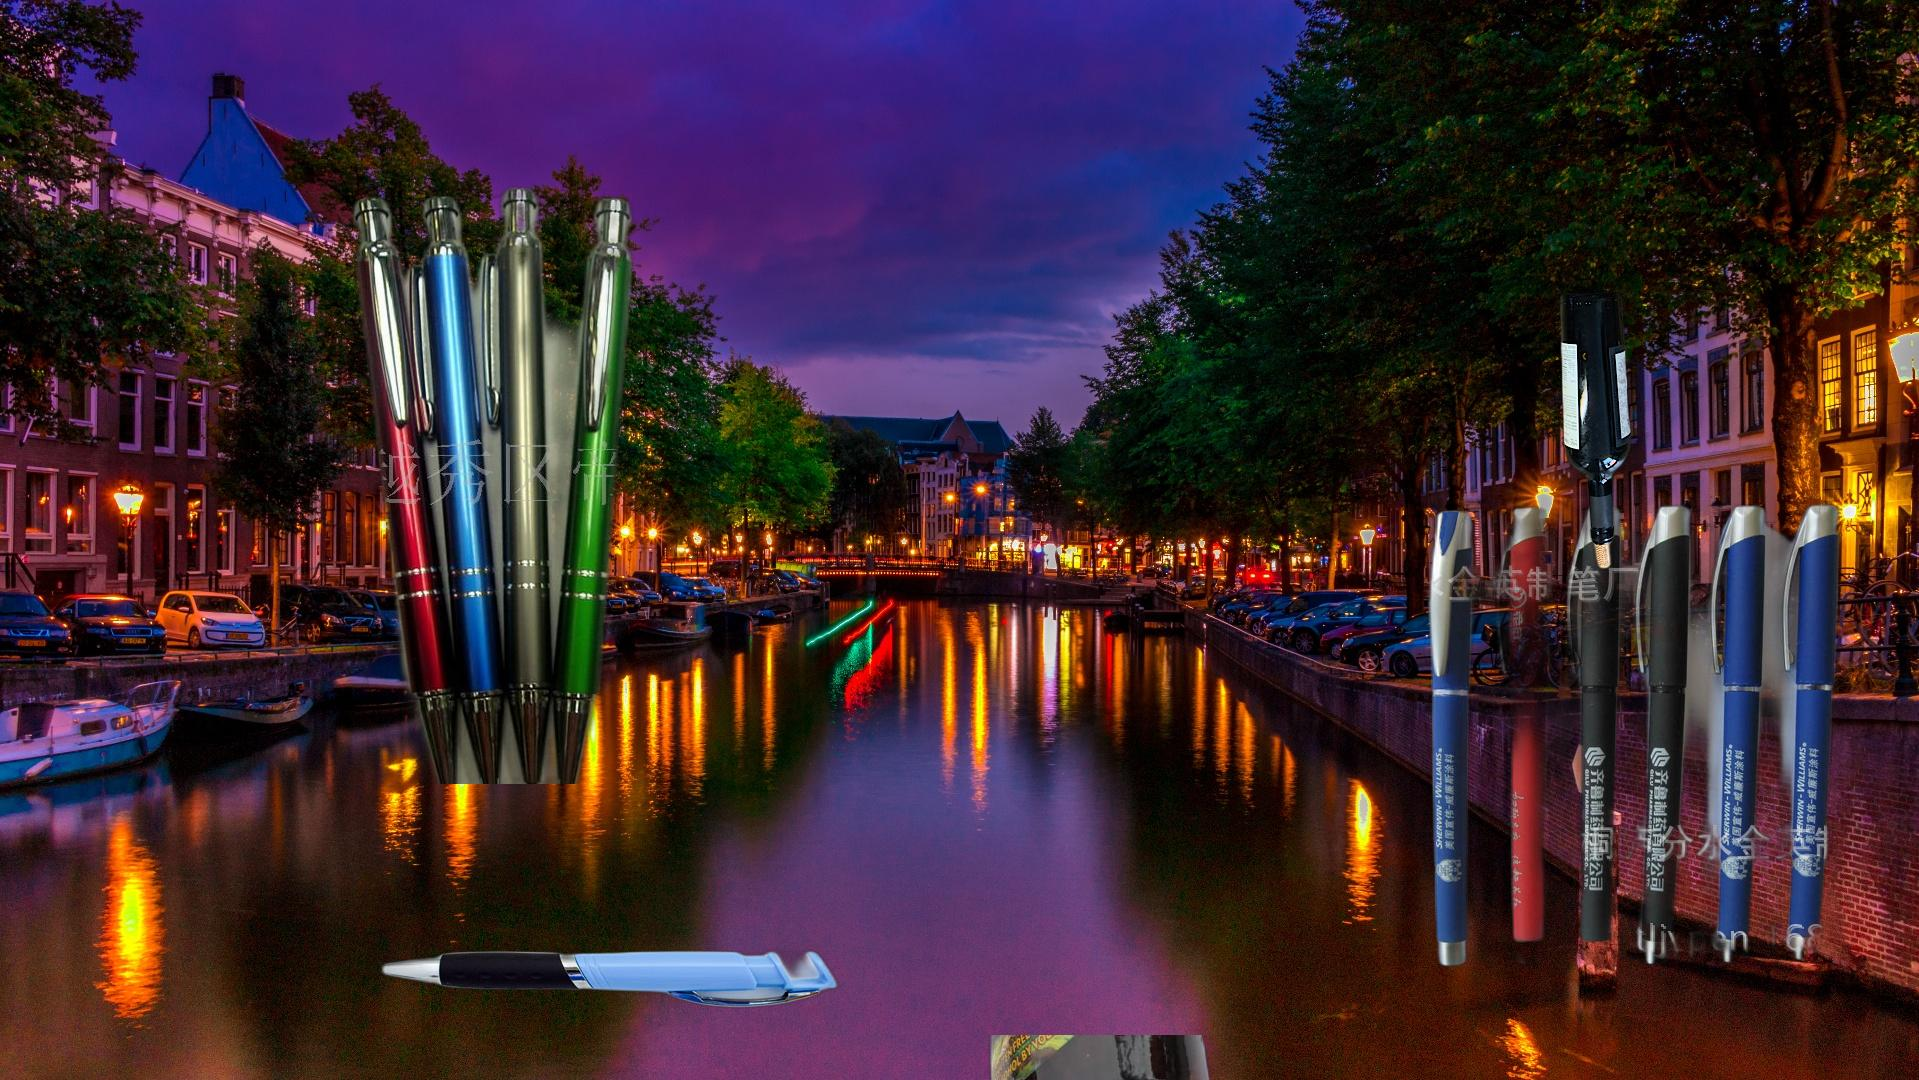glass: (1555, 284, 1636, 575), (986, 1035, 1226, 1080)
penholder: (59, 76, 642, 785), (1421, 477, 1919, 985), (248, 942, 844, 1080)
